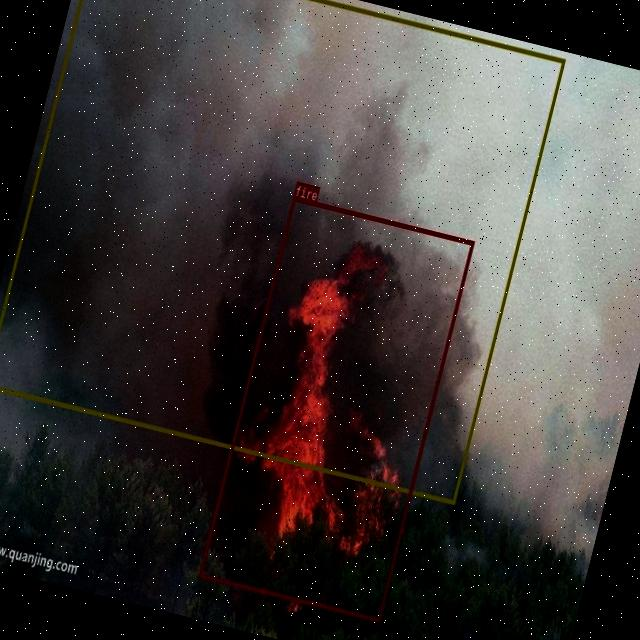fire: (197, 195, 473, 621)
smoke: (0, 0, 565, 503)
